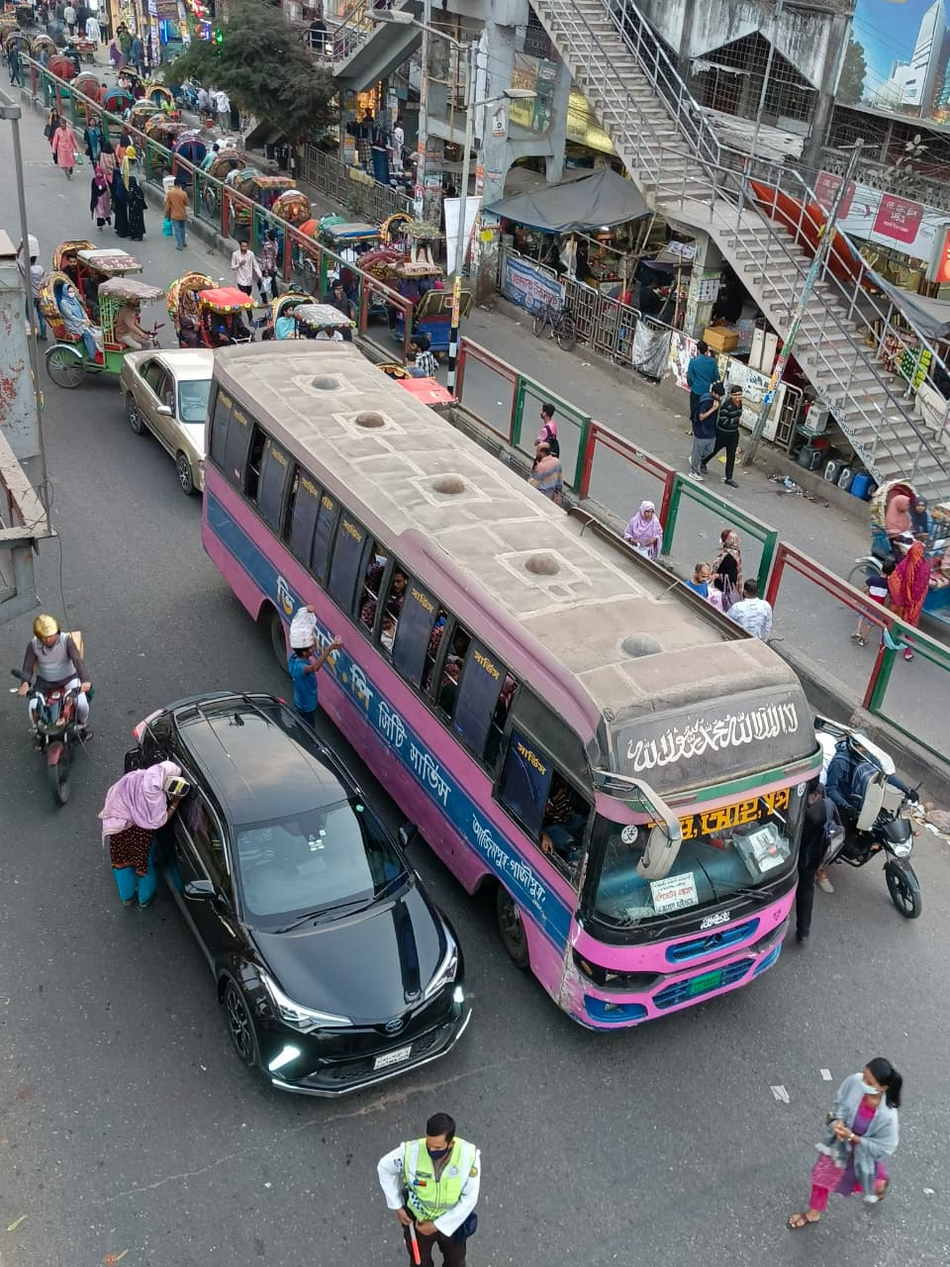Bikes: (25, 582, 99, 807)
Bus: (192, 314, 835, 1028)
auto-ricksaw: (0, 15, 513, 358), (35, 233, 293, 399), (821, 716, 950, 947), (858, 495, 950, 627)
private car: (129, 698, 483, 1107), (111, 342, 224, 486)
